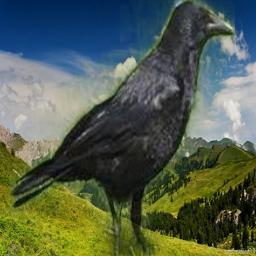Crow: (10, 0, 235, 256)
